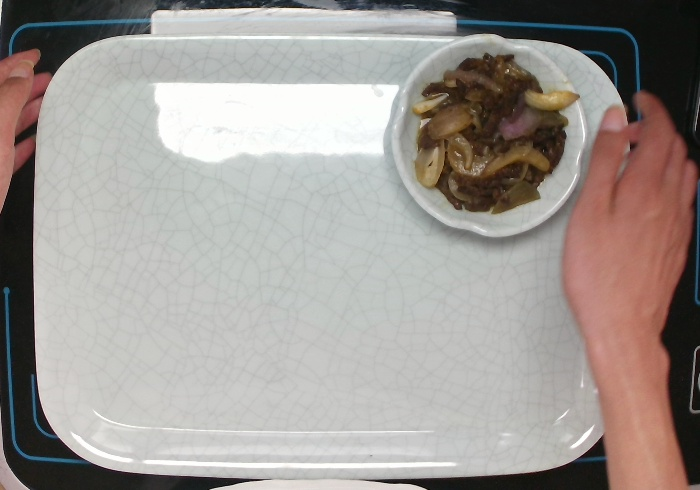JYsf-Ao_Yuan_Wan: (388, 31, 591, 239)
